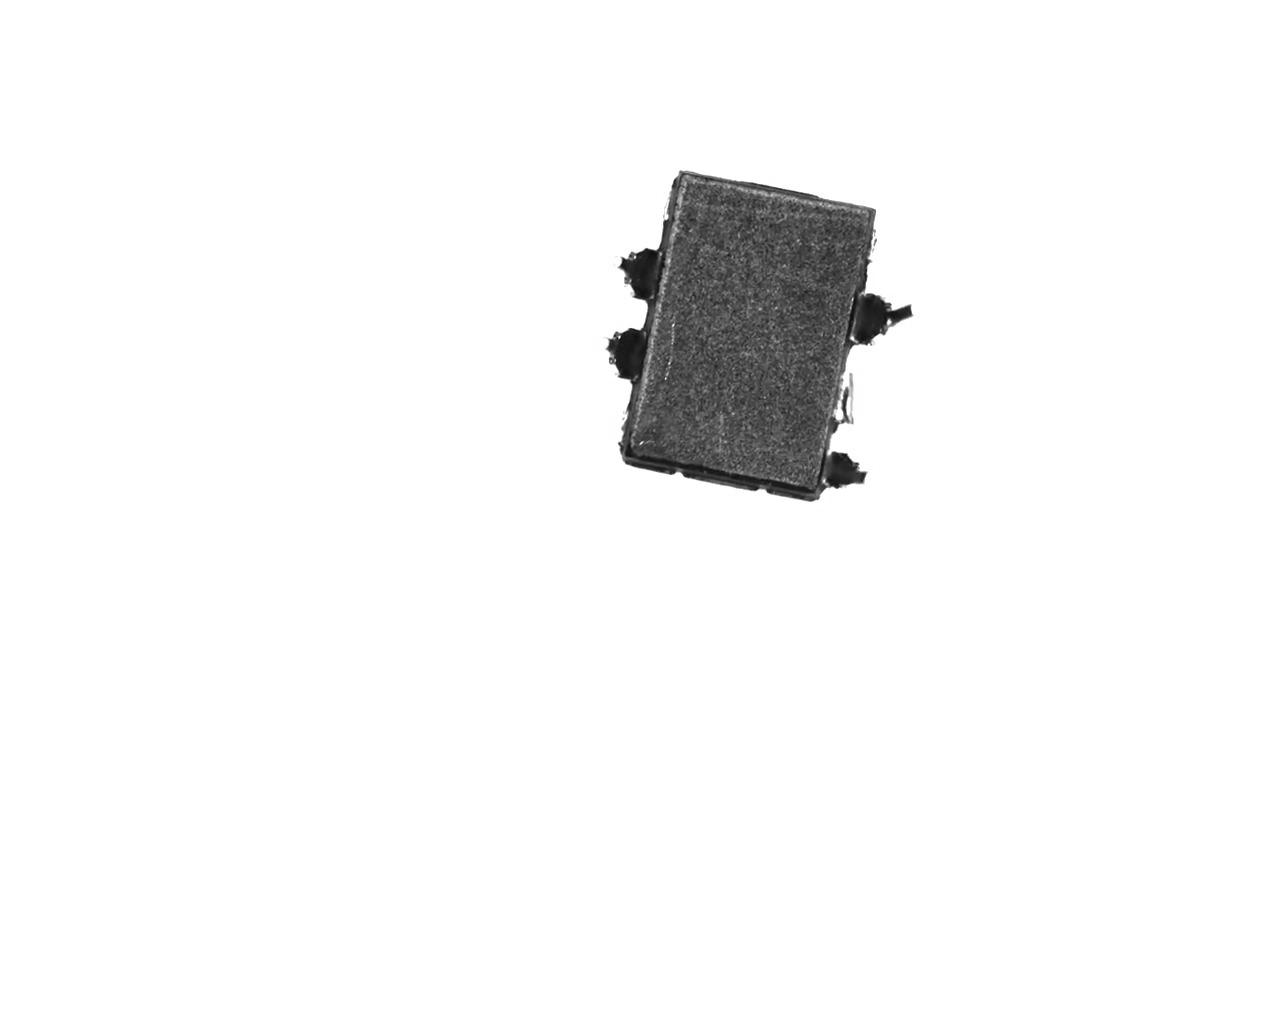brokenLeg: (845, 287, 923, 355), (597, 316, 659, 381), (609, 238, 672, 299), (823, 446, 880, 497)
missingLeg: (832, 366, 860, 435), (610, 385, 636, 446), (859, 217, 884, 277), (656, 172, 680, 225)
